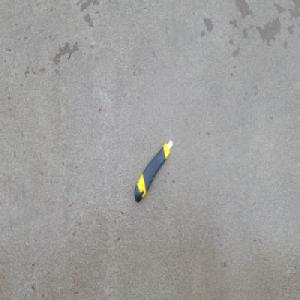Cutter: (134, 138, 173, 204)
